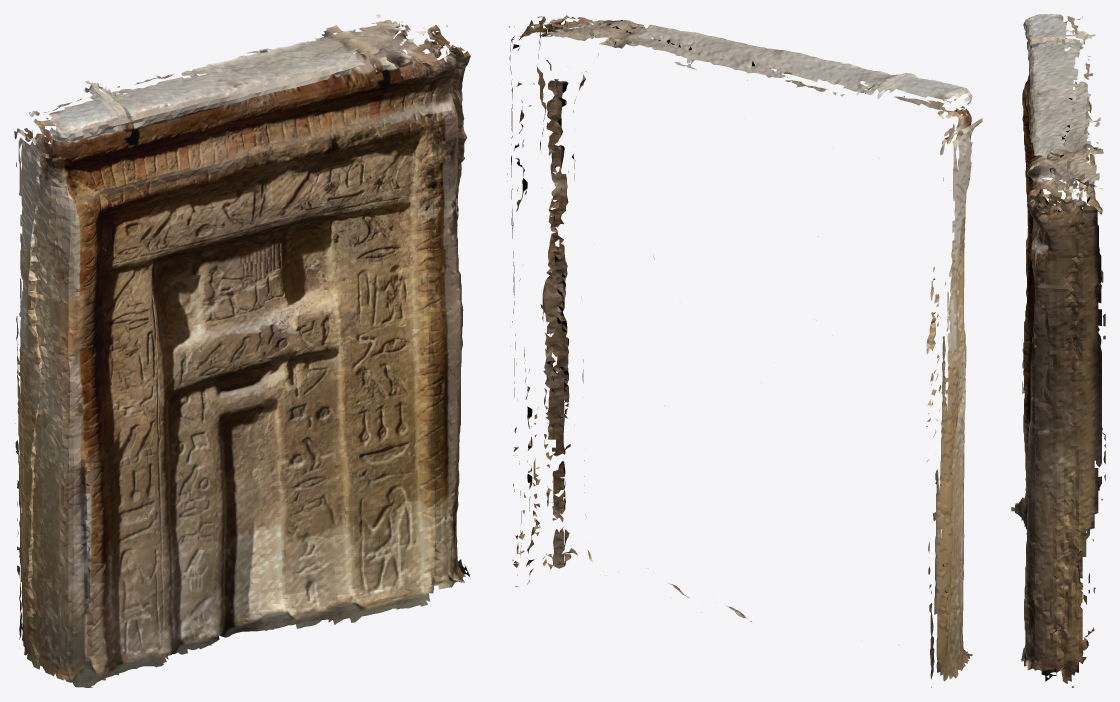
Rendered from Door.gltf.
3 views of the same model, side by side, from view 1: azimuth 30°, elevation 25°; view 2: azimuth 150°, elevation 25°; view 3: azimuth 270°, elevation 25° (orthographic). The views are drawn at different scales.
Bounding box in the file's own units: 0.592 × 0.748 × 0.127.
Materials: 1 (1 with a texture image).
